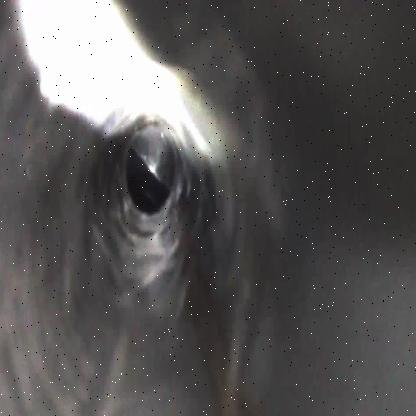Crack: (84, 119, 221, 304)
